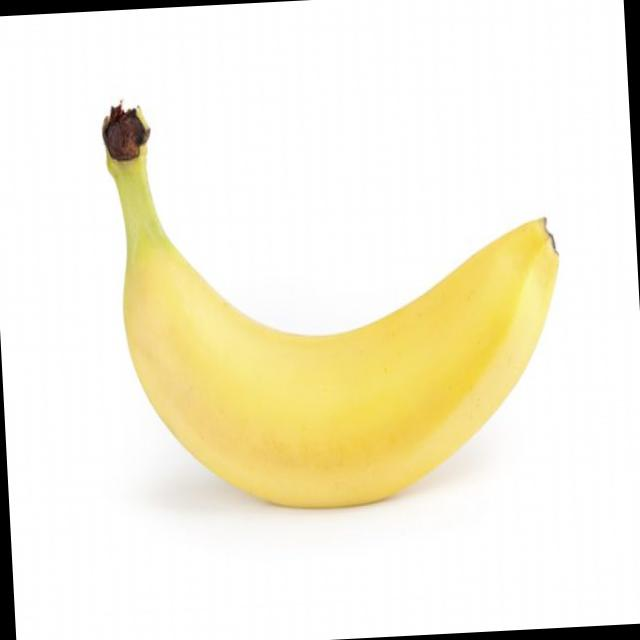banana: (116, 135, 572, 538)
